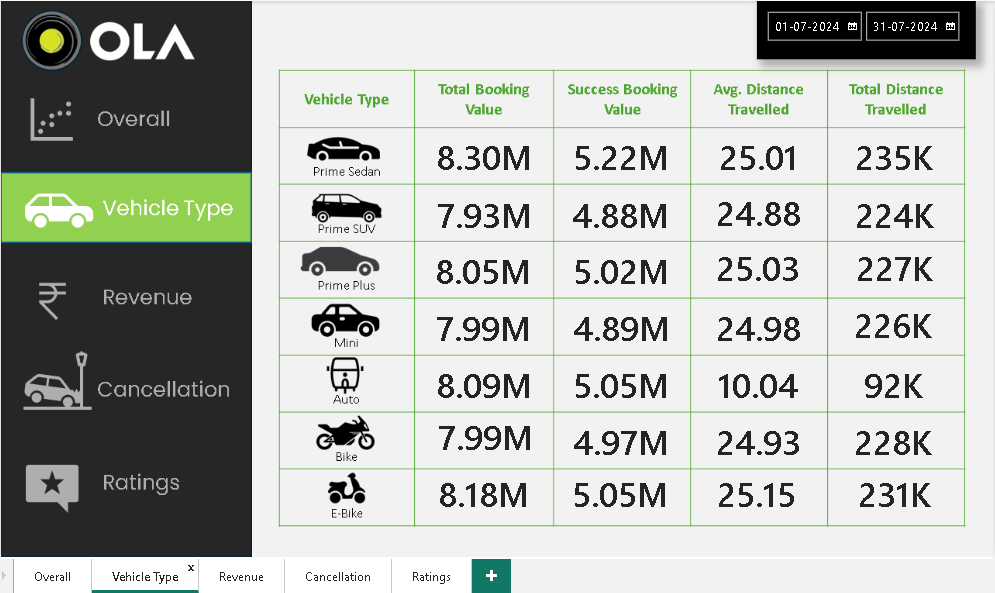

This screenshot's page, from the dashboard's own definition file:
{"tool":"powerbi","page":{"name":"Vehicle Type","canvas":[1280,720],"ordinal":1},"visuals":[{"type":"actionButton","box":[0,334.5,324.6,90.7],"z":0},{"type":"actionButton","box":[0,449.3,324.6,90.7],"z":1000},{"type":"actionButton","box":[0,581.1,324.6,90.7],"z":2000},{"type":"actionButton","box":[0,103.5,324.6,90.7],"z":3000},{"type":"card","fields":{"Values":["Sum(Bookings-100000-Rows.Booking_Value)"]},"box":[535.7,163,175.7,73.7],"z":4000},{"type":"card","fields":{"Values":["Sum(Bookings-100000-Rows.Booking_Value)"]},"box":[534.2,309.1,176.4,73.9],"z":5000},{"type":"card","fields":{"Values":["Sum(Bookings-100000-Rows.Booking_Value)"]},"box":[535.9,383,174.7,73.9],"z":6000},{"type":"card","fields":{"Values":["Sum(Bookings-100000-Rows.Booking_Value)"]},"box":[535.9,456.9,174.7,73.9],"z":7000},{"type":"card","fields":{"Values":["Sum(Bookings-100000-Rows.Booking_Value)"]},"box":[537.5,524.1,174.7,73.9],"z":8000},{"type":"card","fields":{"Values":["Sum(Bookings-100000-Rows.Booking_Value)"]},"box":[535.9,598,174.7,73.9],"z":9000},{"type":"card","fields":{"Values":["Sum(Bookings-100000-Rows.Booking_Value)"]},"box":[535.9,236.9,176.4,73.9],"z":10000},{"type":"card","fields":{"Values":["Sum(Bookings-100000-Rows.Booking_Value)"]},"box":[712.2,162.9,176.4,73.9],"z":11000},{"type":"card","fields":{"Values":["Sum(Bookings-100000-Rows.Booking_Value)"]},"box":[710.6,236.9,176.4,73.9],"z":12000},{"type":"card","fields":{"Values":["Sum(Bookings-100000-Rows.Booking_Value)"]},"box":[712.2,309.1,176.4,73.9],"z":13000},{"type":"card","fields":{"Values":["Sum(Bookings-100000-Rows.Booking_Value)"]},"box":[712.2,383,176.4,73.9],"z":14000},{"type":"card","fields":{"Values":["Sum(Bookings-100000-Rows.Booking_Value)"]},"box":[712.2,456.9,176.4,73.9],"z":15000},{"type":"card","fields":{"Values":["Sum(Bookings-100000-Rows.Booking_Value)"]},"box":[712.2,530.8,176.4,73.9],"z":16000},{"type":"card","fields":{"Values":["Sum(Bookings-100000-Rows.Booking_Value)"]},"box":[710.6,598,176.4,73.9],"z":17000},{"type":"card","fields":{"Values":["Avg(Bookings-100000-Rows.Ride_Distance)"]},"box":[888.6,162.9,176.4,73.9],"z":18000},{"type":"card","fields":{"Values":["Avg(Bookings-100000-Rows.Ride_Distance)"]},"box":[888.6,235.2,176.4,73.9],"z":19000},{"type":"card","fields":{"Values":["Avg(Bookings-100000-Rows.Ride_Distance)"]},"box":[888.6,305.7,176.4,73.9],"z":20000},{"type":"card","fields":{"Values":["Avg(Bookings-100000-Rows.Ride_Distance)"]},"box":[888.6,383,176.4,73.9],"z":21000},{"type":"card","fields":{"Values":["Avg(Bookings-100000-Rows.Ride_Distance)"]},"box":[888.6,456.9,176.4,73.9],"z":22000},{"type":"card","fields":{"Values":["Avg(Bookings-100000-Rows.Ride_Distance)"]},"box":[888.6,530.8,176.4,73.9],"z":23000},{"type":"card","fields":{"Values":["Avg(Bookings-100000-Rows.Ride_Distance)"]},"box":[886.9,598,176.4,73.9],"z":24000},{"type":"card","fields":{"Values":["Sum(Bookings-100000-Rows.Ride_Distance)"]},"box":[1065,162.9,176.4,73.9],"z":25000},{"type":"card","fields":{"Values":["Sum(Bookings-100000-Rows.Ride_Distance)"]},"box":[1065,236.9,176.4,73.9],"z":26000},{"type":"card","fields":{"Values":["Sum(Bookings-100000-Rows.Ride_Distance)"]},"box":[1065,305.7,176.4,73.9],"z":27000},{"type":"card","fields":{"Values":["Sum(Bookings-100000-Rows.Ride_Distance)"]},"box":[1063.3,379.6,176.4,73.9],"z":28000},{"type":"card","fields":{"Values":["Sum(Bookings-100000-Rows.Ride_Distance)"]},"box":[1063.3,456.9,176.4,73.9],"z":29000},{"type":"card","fields":{"Values":["Sum(Bookings-100000-Rows.Ride_Distance)"]},"box":[1063.3,530.8,176.4,73.9],"z":30000},{"type":"card","fields":{"Values":["Sum(Bookings-100000-Rows.Ride_Distance)"]},"box":[1065,598,176.4,73.9],"z":31000},{"type":"slicer","title":"Date","fields":{"Values":["Bookings-100000-Rows.Date"]},"box":[975.1,0,282,75.1],"z":32000}]}

Visuals, with their boxes on the page's 1280x720 design canvas (x1, y1, x2, y2). These are canvas units, not pixel positions in the 995x593 screenshot, which may show the page scaled, cropped or inside an application window:
actionButton: 0,334,325,425
actionButton: 0,449,325,540
actionButton: 0,581,325,672
actionButton: 0,104,325,194
card - Sum(Bookings-100000-Rows.Booking_Value): 536,163,711,237
card - Sum(Bookings-100000-Rows.Booking_Value): 534,309,711,383
card - Sum(Bookings-100000-Rows.Booking_Value): 536,383,711,457
card - Sum(Bookings-100000-Rows.Booking_Value): 536,457,711,531
card - Sum(Bookings-100000-Rows.Booking_Value): 538,524,712,598
card - Sum(Bookings-100000-Rows.Booking_Value): 536,598,711,672
card - Sum(Bookings-100000-Rows.Booking_Value): 536,237,712,311
card - Sum(Bookings-100000-Rows.Booking_Value): 712,163,889,237
card - Sum(Bookings-100000-Rows.Booking_Value): 711,237,887,311
card - Sum(Bookings-100000-Rows.Booking_Value): 712,309,889,383
card - Sum(Bookings-100000-Rows.Booking_Value): 712,383,889,457
card - Sum(Bookings-100000-Rows.Booking_Value): 712,457,889,531
card - Sum(Bookings-100000-Rows.Booking_Value): 712,531,889,605
card - Sum(Bookings-100000-Rows.Booking_Value): 711,598,887,672
card - Avg(Bookings-100000-Rows.Ride_Distance): 889,163,1065,237
card - Avg(Bookings-100000-Rows.Ride_Distance): 889,235,1065,309
card - Avg(Bookings-100000-Rows.Ride_Distance): 889,306,1065,380
card - Avg(Bookings-100000-Rows.Ride_Distance): 889,383,1065,457
card - Avg(Bookings-100000-Rows.Ride_Distance): 889,457,1065,531
card - Avg(Bookings-100000-Rows.Ride_Distance): 889,531,1065,605
card - Avg(Bookings-100000-Rows.Ride_Distance): 887,598,1063,672
card - Sum(Bookings-100000-Rows.Ride_Distance): 1065,163,1241,237
card - Sum(Bookings-100000-Rows.Ride_Distance): 1065,237,1241,311
card - Sum(Bookings-100000-Rows.Ride_Distance): 1065,306,1241,380
card - Sum(Bookings-100000-Rows.Ride_Distance): 1063,380,1240,454
card - Sum(Bookings-100000-Rows.Ride_Distance): 1063,457,1240,531
card - Sum(Bookings-100000-Rows.Ride_Distance): 1063,531,1240,605
card - Sum(Bookings-100000-Rows.Ride_Distance): 1065,598,1241,672
"Date" slicer: 975,0,1257,75
